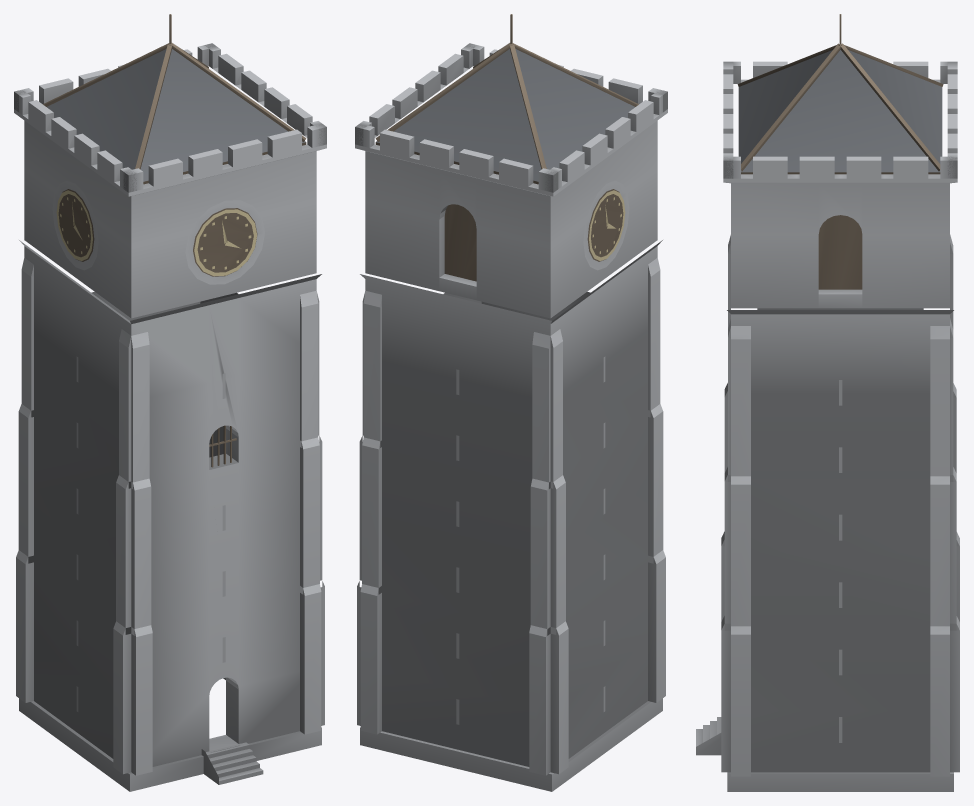
The model's file is sg_clock_tower.glb.
The picture shows the model from 3 angles, left to right: view 1: azimuth 30°, elevation 25°; view 2: azimuth 150°, elevation 25°; view 3: azimuth 270°, elevation 25°; orthographic projection. The views are drawn at different scales.
Parts seen in each view (by area): view 1: sg_clock_tower_SG_Stone, sg_clock_tower_SG_Slate, sg_clock_tower_SG_Joinery, sg_clock_tower_SG_Brass; view 2: sg_clock_tower_SG_Stone, sg_clock_tower_SG_Slate, sg_clock_tower_SG_Joinery, sg_clock_tower_SG_Brass; view 3: sg_clock_tower_SG_Stone, sg_clock_tower_SG_Slate, sg_clock_tower_SG_Joinery.
Boxes of the visible parts, box(x1,y1,x2,y2) form: sg_clock_tower_SG_Stone: box(14, 43, 326, 791); sg_clock_tower_SG_Slate: box(47, 49, 305, 181); sg_clock_tower_SG_Joinery: box(43, 14, 306, 467); sg_clock_tower_SG_Brass: box(56, 190, 256, 276); sg_clock_tower_SG_Stone: box(355, 43, 667, 791); sg_clock_tower_SG_Slate: box(376, 49, 634, 181); sg_clock_tower_SG_Joinery: box(375, 14, 638, 281); sg_clock_tower_SG_Brass: box(589, 190, 625, 260); sg_clock_tower_SG_Stone: box(696, 61, 959, 791); sg_clock_tower_SG_Slate: box(738, 50, 942, 172); sg_clock_tower_SG_Joinery: box(737, 14, 943, 289).
Bounding box in the file's own units: 10.9 × 36.79 × 12.05.
